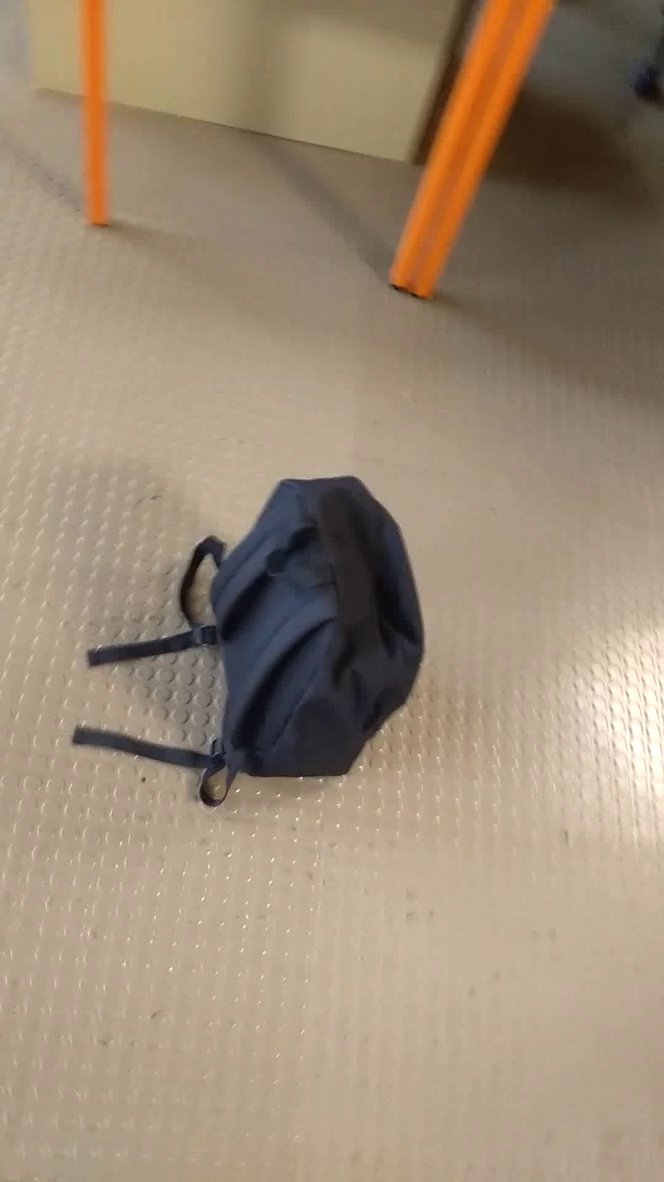bag: (69, 468, 437, 812)
